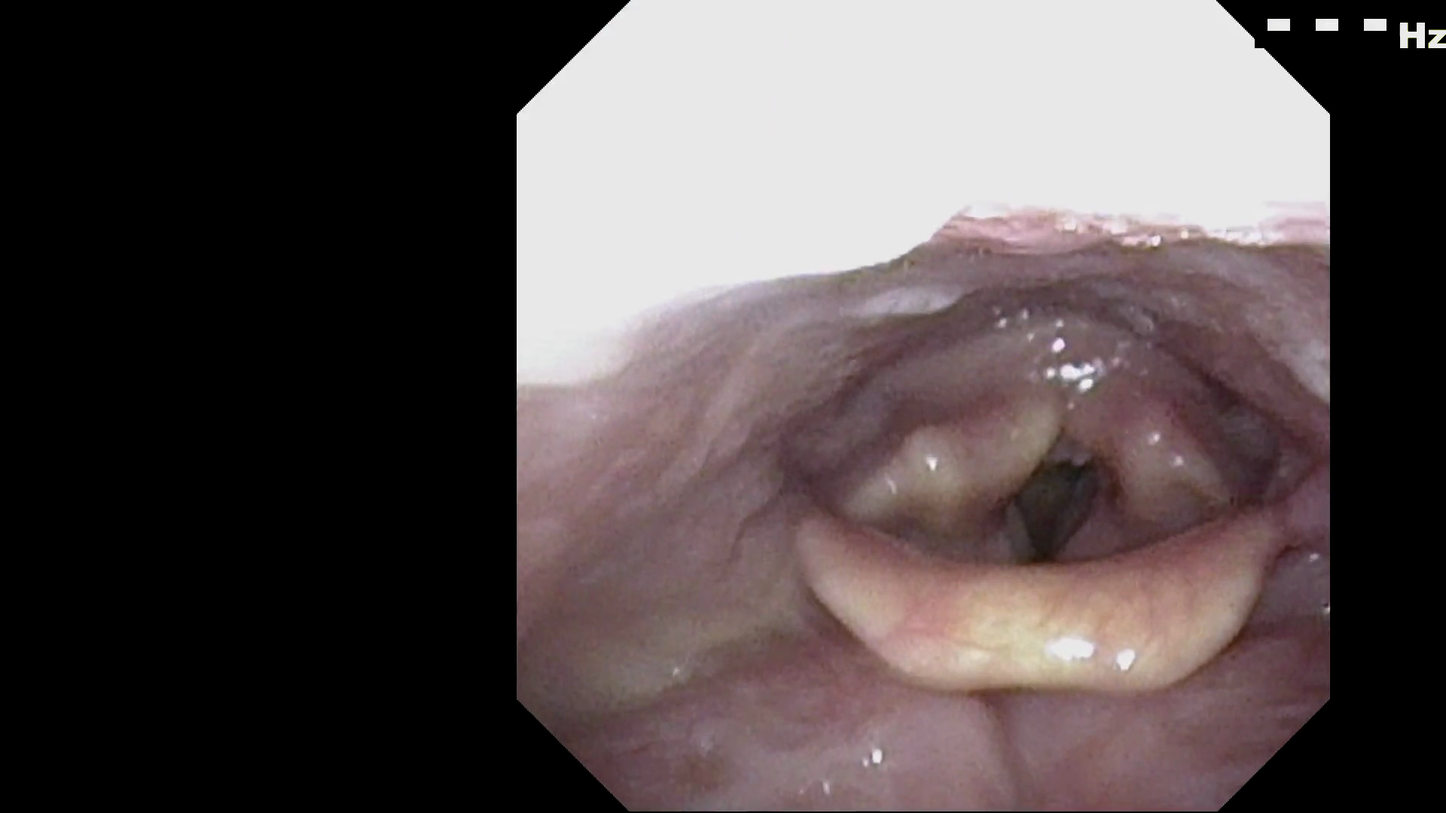epiglottis: (779, 470, 1304, 709)
trachea: (977, 408, 1124, 563)
